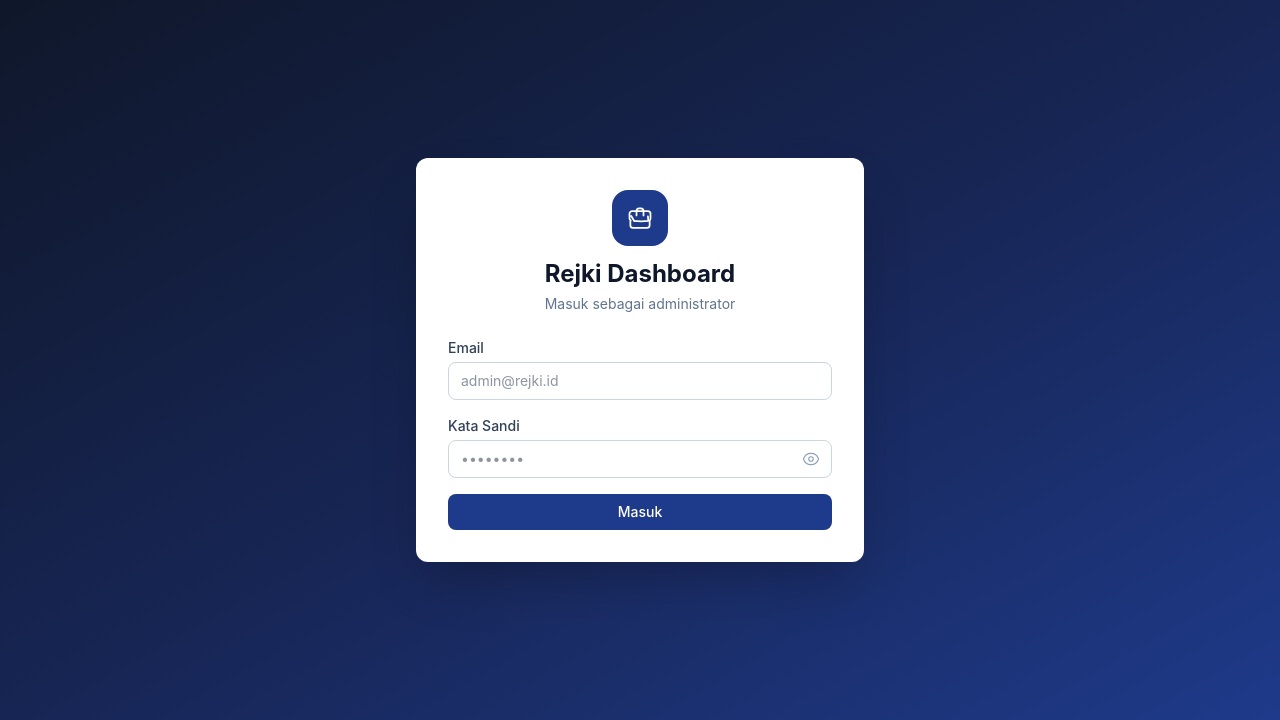
Test case: LoginPage › menampilkan userMessage untuk error non-401
The image size is (1280, 720).
In the field labelled "Email": {"x": 640, "y": 381} 448,362 -> 832,400, type "a@b.id"
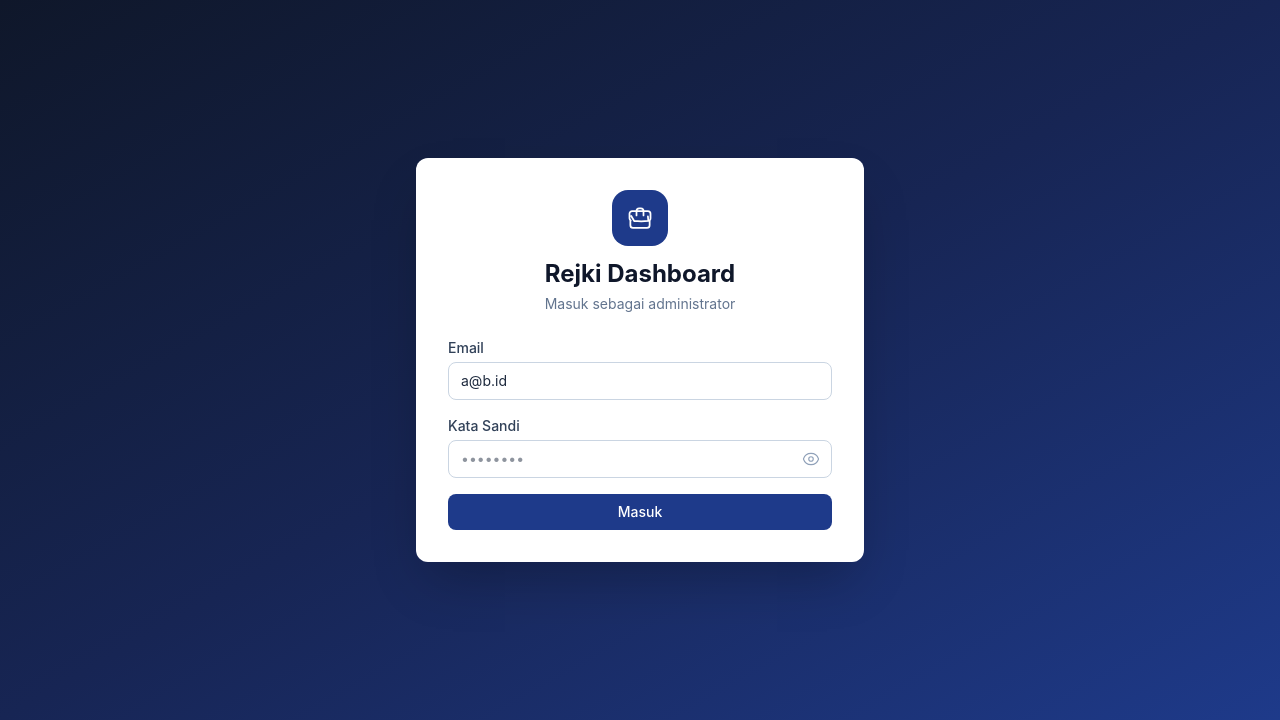
In the password field labelled "Kata Sandi": {"x": 640, "y": 459} 448,440 -> 832,478, type "p"
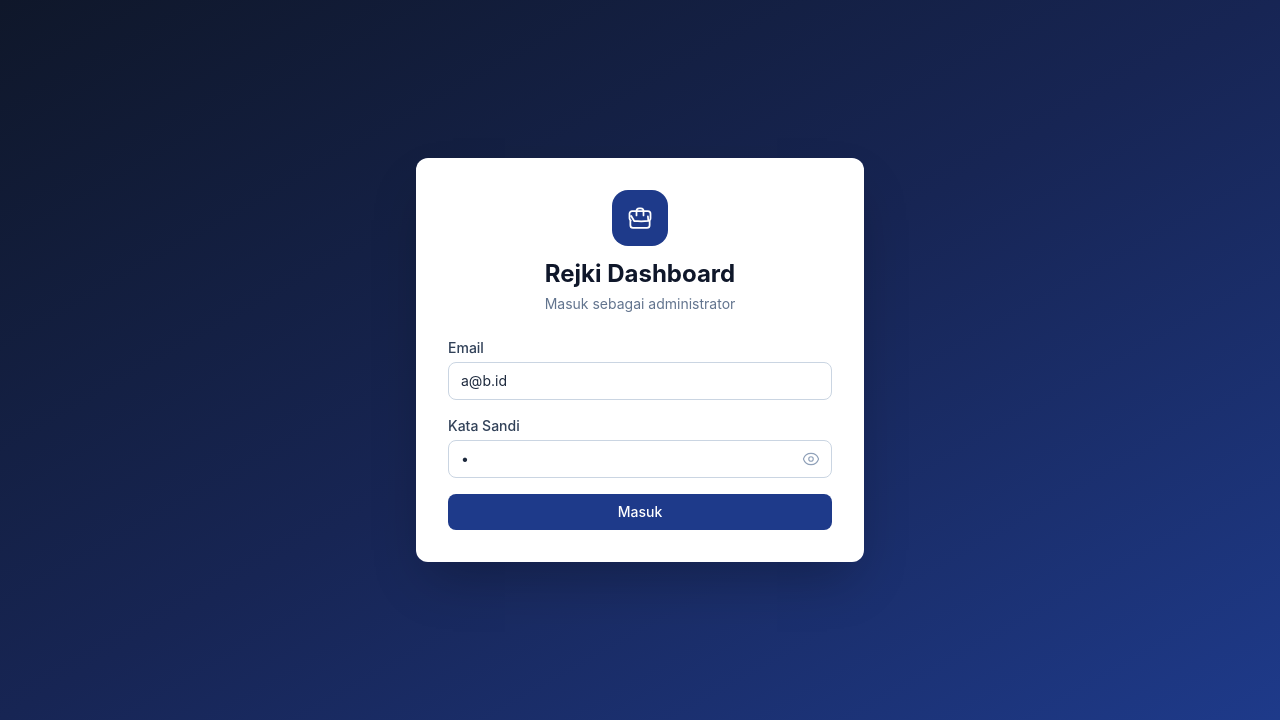
Submit the form, box 448,338 -> 832,530
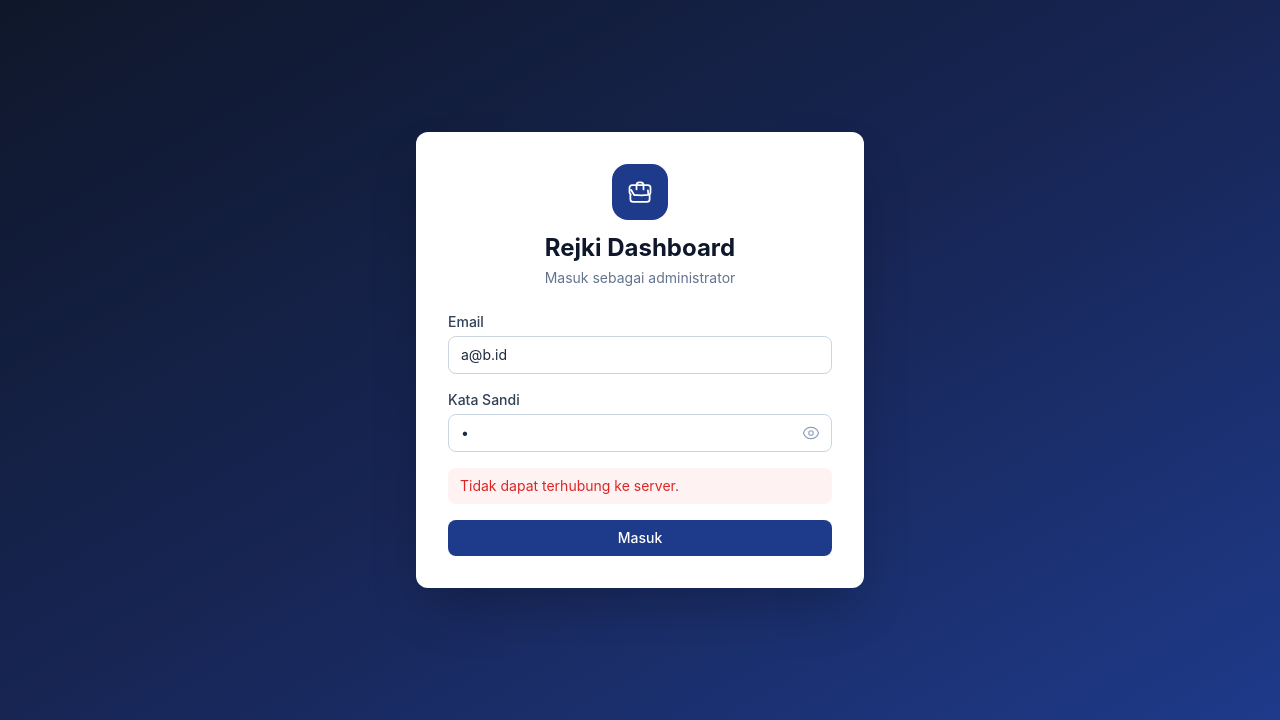
Expected: the text "Tidak dapat terhubung ke server" is shown, 460,477 -> 679,494
